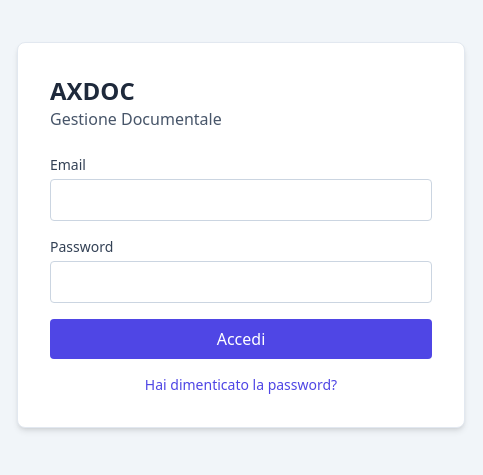
Test: LoginPage › shows error on 401
Step 1. Type "test@test.com" into the field labelled "Email" → [241, 200], box 50,179 -> 432,221
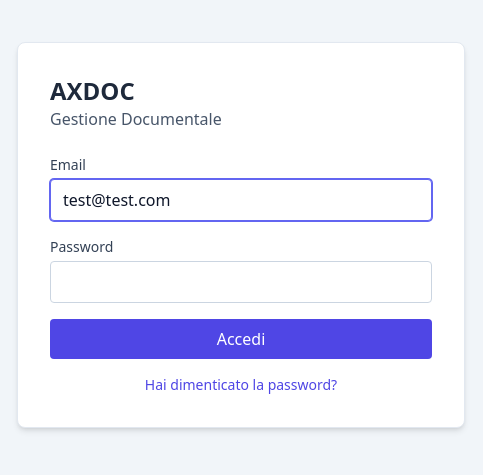
Step 2. Type "wrong12" into the password field labelled "Password" → [241, 282], box 50,261 -> 432,303
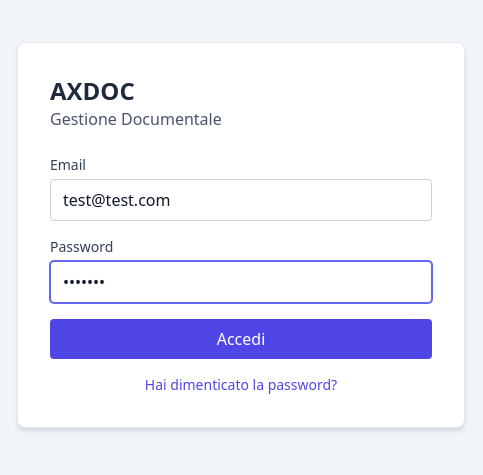
Step 3. Click the button "Accedi" → [241, 339], box 50,319 -> 432,359
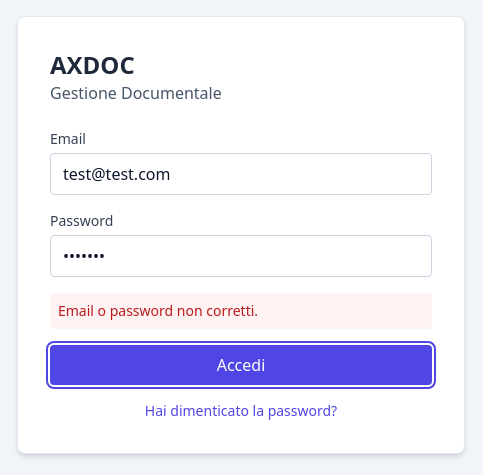
Now the text "Email o password non corretti." is shown, box 50,293 -> 432,329
